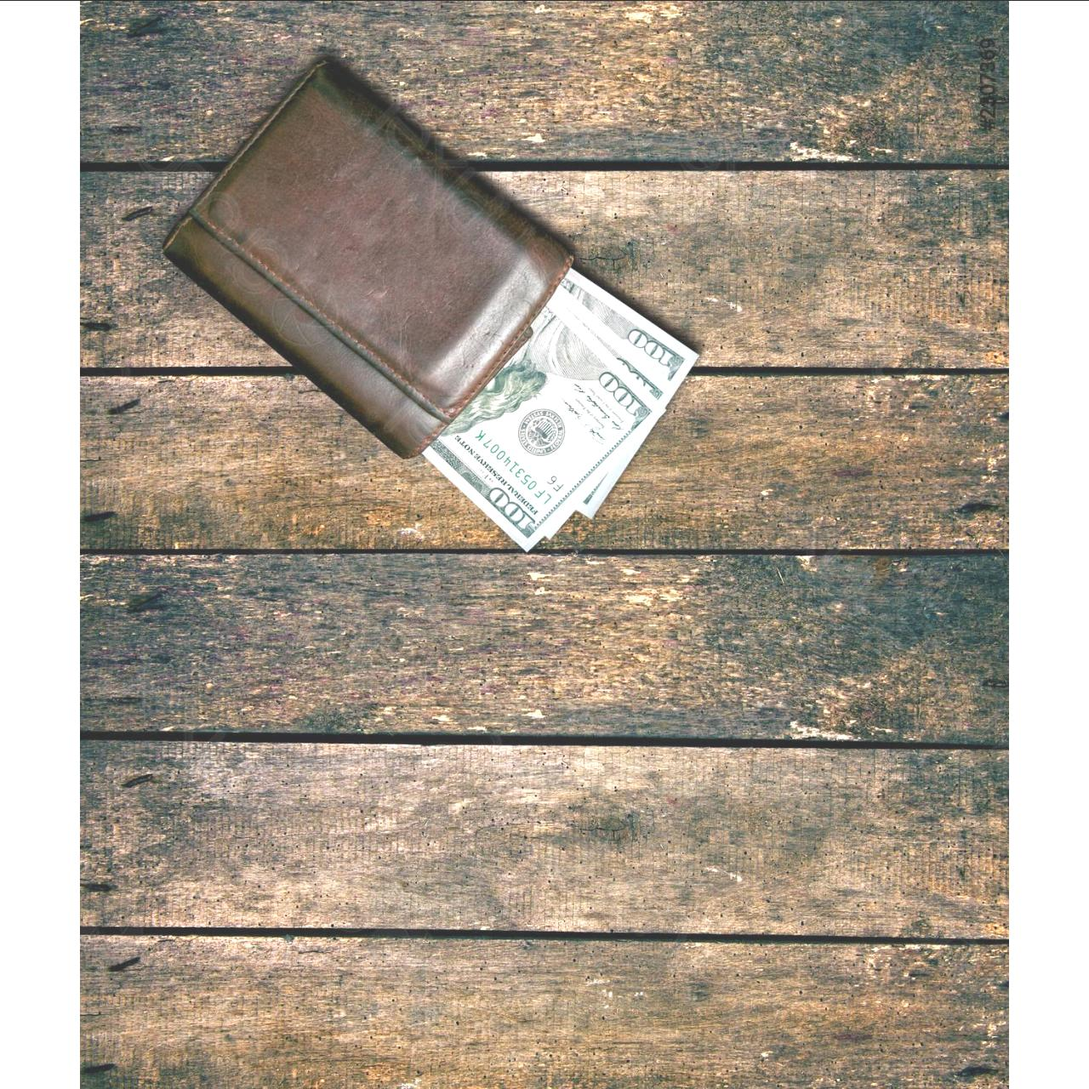wallet: (80, 20, 636, 494)
